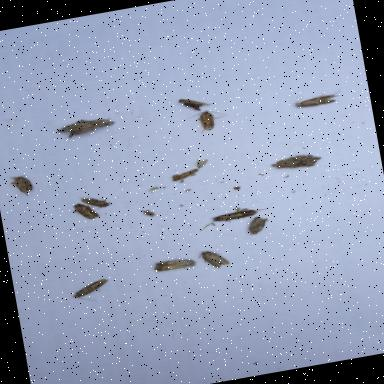pbw: (180, 106, 232, 137), (54, 115, 116, 140), (74, 277, 115, 306), (294, 88, 346, 110), (211, 207, 267, 226), (196, 247, 232, 272), (154, 255, 197, 274), (70, 200, 100, 222), (9, 172, 34, 198), (78, 192, 110, 212), (178, 94, 212, 110), (247, 214, 269, 236), (171, 168, 201, 182), (184, 100, 202, 113), (195, 158, 208, 170)
